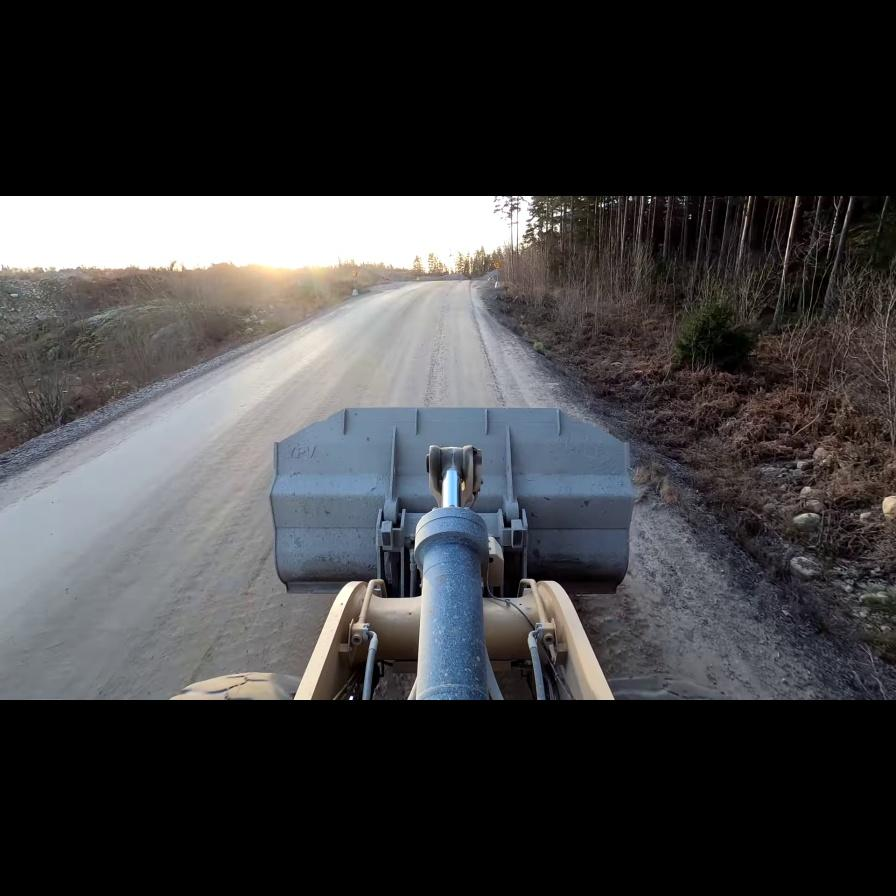anchor: (426, 445, 480, 509)
